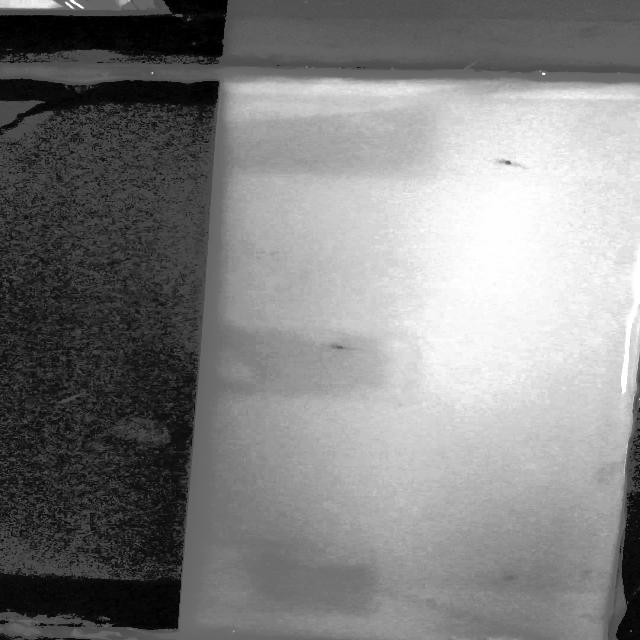shrimp: (484, 154, 532, 176), (325, 340, 360, 358)
